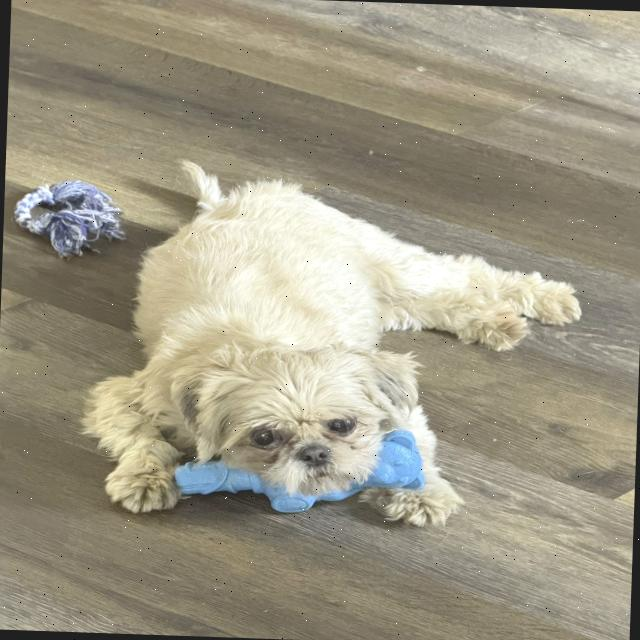shih_tzu_dog: (165, 334, 428, 498)
